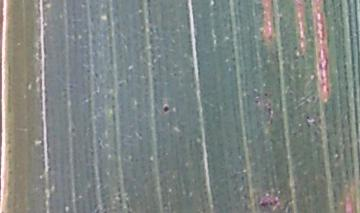tarspot: (257, 193, 280, 209), (266, 106, 274, 122), (161, 104, 172, 114), (305, 113, 312, 126), (263, 90, 270, 99), (254, 100, 261, 107)
